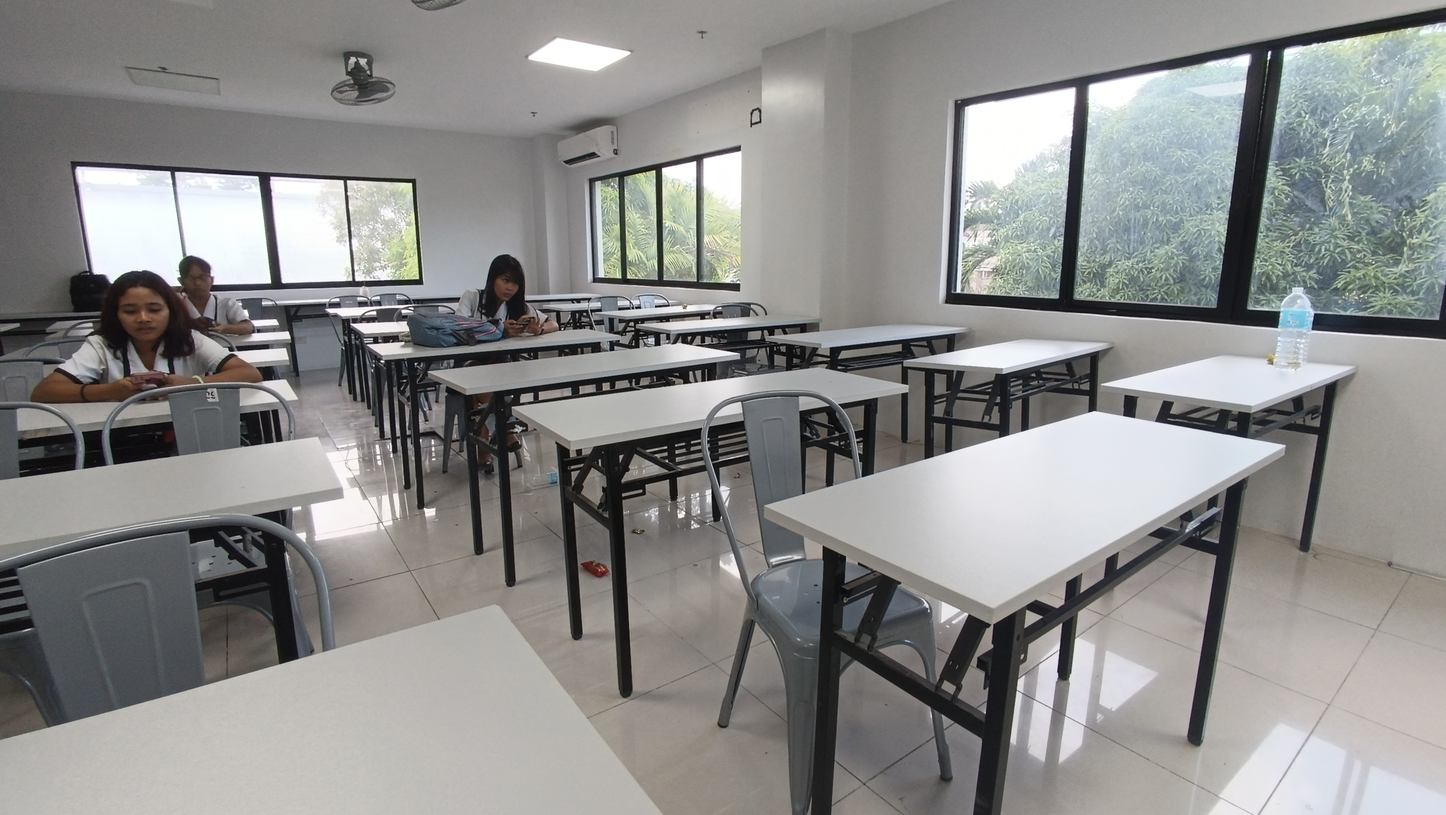with-student: (0, 269, 297, 438), (366, 252, 622, 362), (41, 251, 292, 348)
